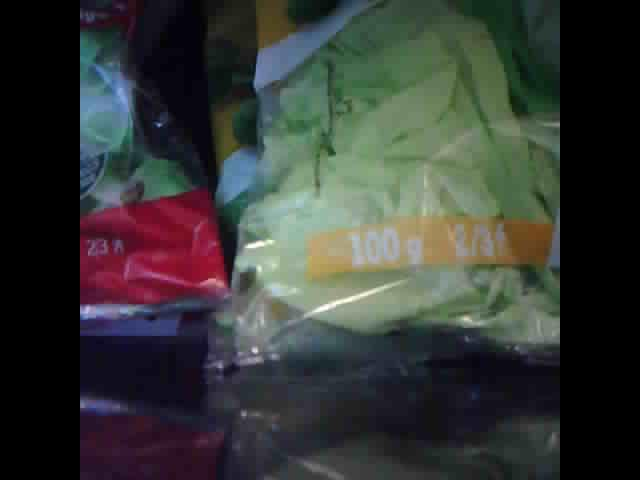florette: (199, 3, 557, 390), (82, 3, 237, 337)
